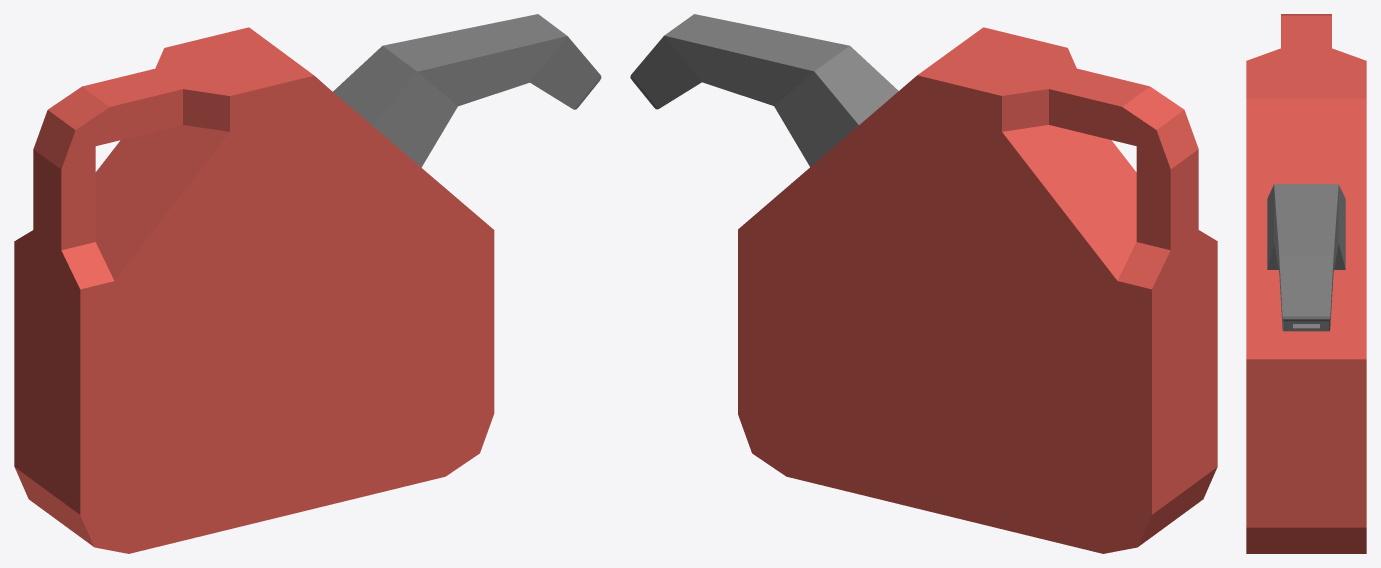
File: Jerrycan.fbx
3 views of the same model, side by side, from view 1: azimuth 30°, elevation 25°; view 2: azimuth 150°, elevation 25°; view 3: azimuth 270°, elevation 25° (orthographic). The views are drawn at different scales.
Visible parts, largest first — view 1: Cube.001; view 2: Cube.001; view 3: Cube.001.
Boxes of the visible parts, <box> form: Cube.001: <box>14,14,601,553</box>; Cube.001: <box>630,14,1217,553</box>; Cube.001: <box>1246,14,1366,553</box>.
Size of the model in its own units: 93.36 by 71.36 by 19.65.
